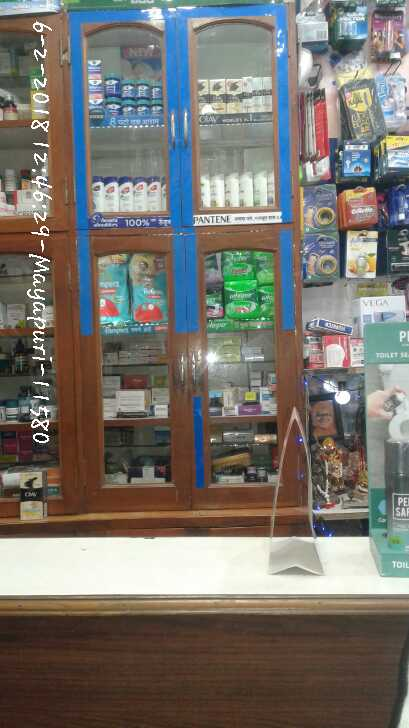vicks: (81, 49, 166, 125)
